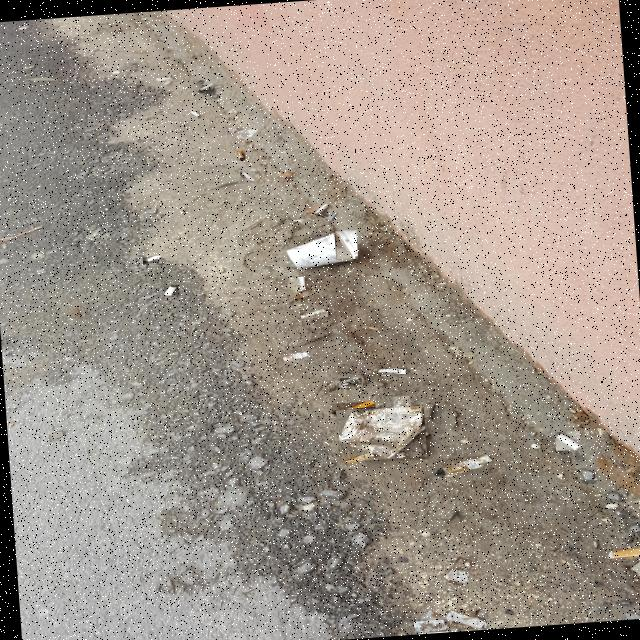Cigarette: (433, 455, 492, 476), (445, 611, 486, 629), (332, 401, 375, 416), (555, 433, 580, 449), (313, 204, 330, 215), (378, 369, 407, 374), (198, 83, 214, 92), (164, 285, 177, 296), (143, 256, 161, 263), (240, 172, 255, 180), (297, 277, 305, 288), (236, 151, 245, 160), (189, 111, 201, 117)
Paper cup: (337, 405, 423, 458), (287, 233, 352, 268), (335, 232, 358, 258)
Unlabeled litter: (414, 619, 446, 633), (446, 568, 467, 582), (283, 351, 309, 361), (394, 396, 410, 412), (300, 309, 327, 318), (341, 377, 361, 386), (157, 78, 166, 79)
Wrapping paper: (608, 547, 640, 561)
